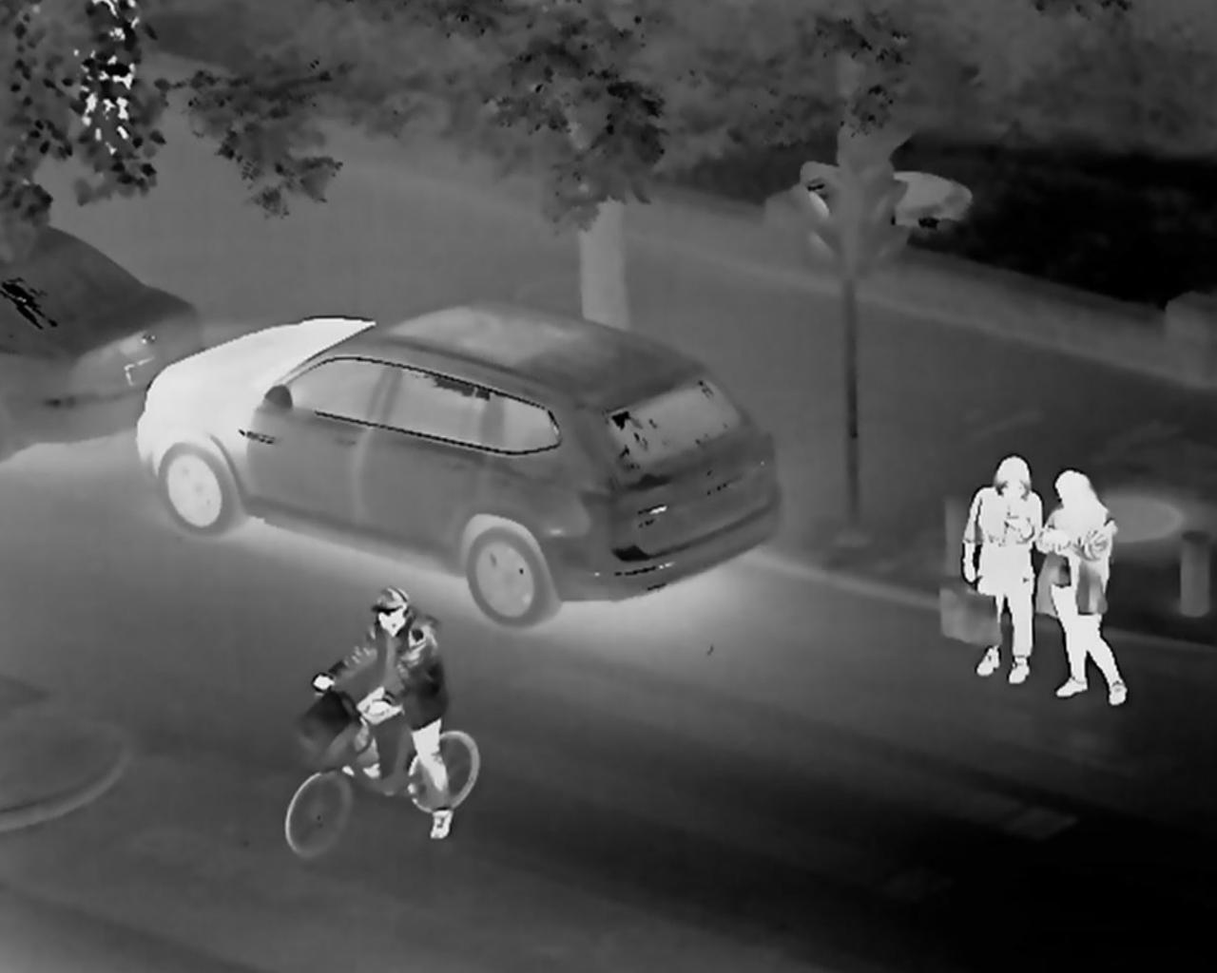person: (335, 587, 466, 811), (1043, 447, 1142, 739), (955, 445, 1039, 682)
